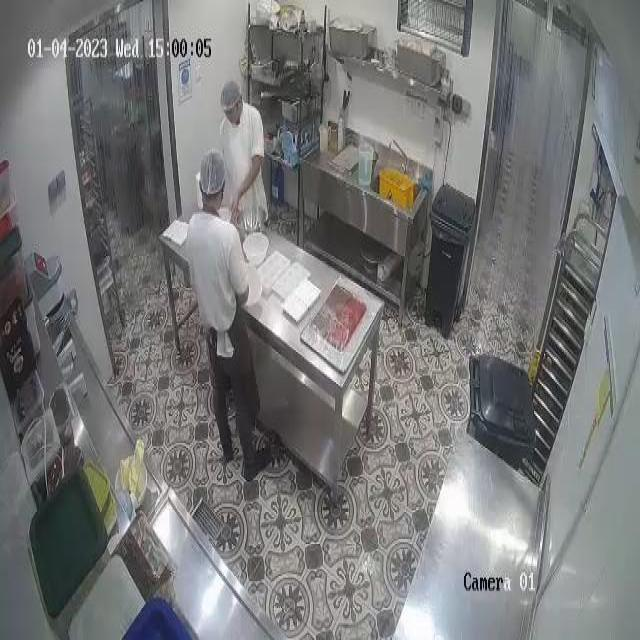hairnet: (199, 146, 224, 198), (219, 82, 244, 113)
